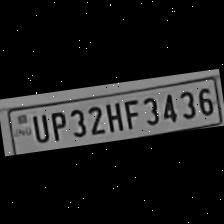2: (83, 100, 106, 136)
3: (65, 104, 87, 138), (138, 92, 160, 126), (176, 85, 197, 120)
4: (156, 88, 178, 124)
6: (192, 83, 216, 117)
F: (120, 95, 140, 130)
H: (102, 97, 124, 132)
P: (46, 107, 68, 142)
U: (29, 110, 50, 143)
